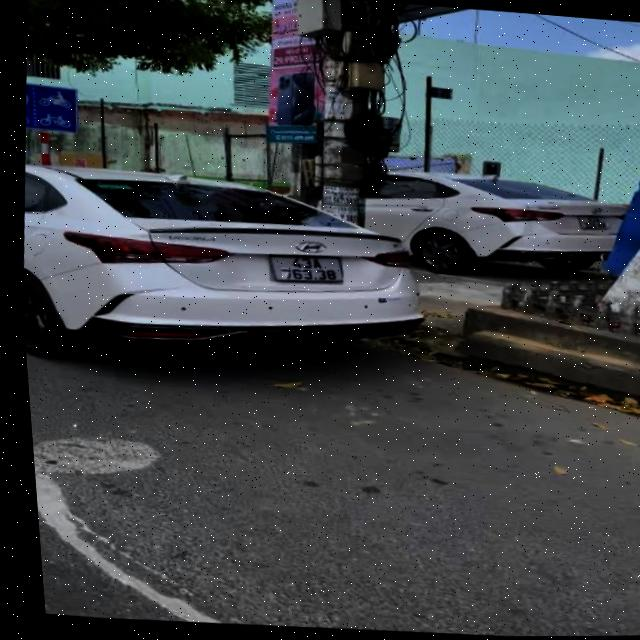car: (12, 155, 436, 382), (305, 152, 632, 286)
plate: (262, 242, 352, 293), (571, 207, 612, 234)
